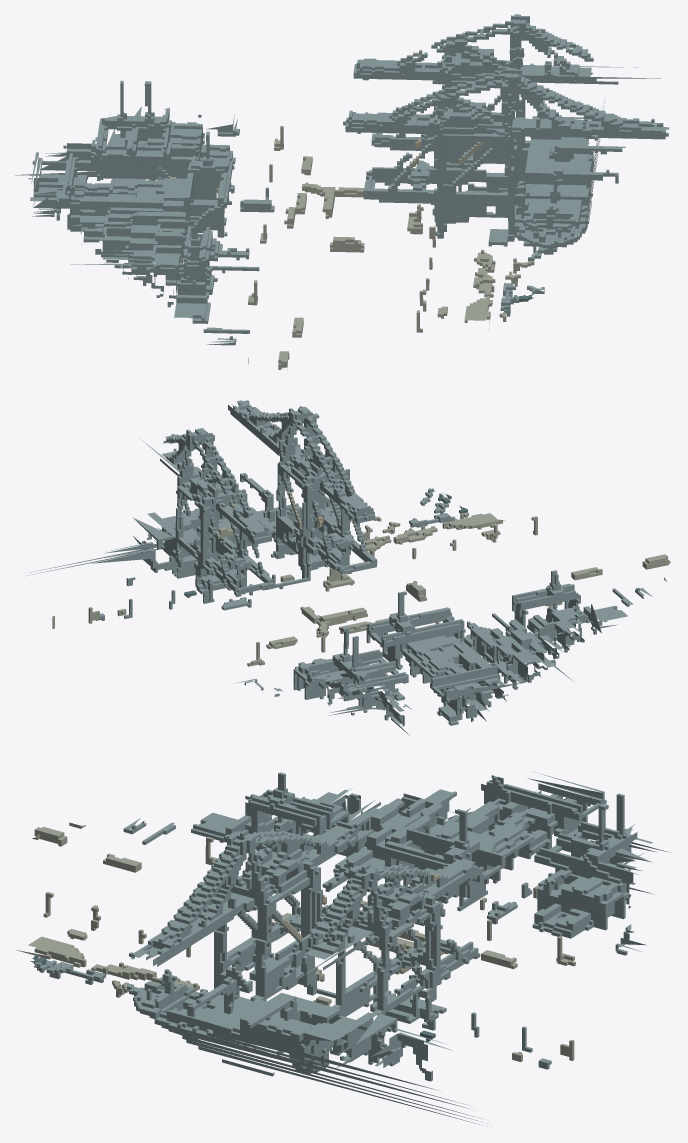
The picture shows the model from 3 angles, top to bottom: view 1: azimuth 30°, elevation 25°; view 2: azimuth 150°, elevation 25°; view 3: azimuth 270°, elevation 25°; orthographic projection. The views are drawn at different scales.
Visible parts, largest first — view 1: measured-industrial; view 2: measured-industrial; view 3: measured-industrial.
Boxes of the visible parts, box(x1,y1,x2,y2) form: measured-industrial: box(15, 14, 669, 369); measured-industrial: box(24, 400, 670, 735); measured-industrial: box(16, 771, 669, 1125).
Bounding box in the file's own units: 327 × 88.88 × 277.
